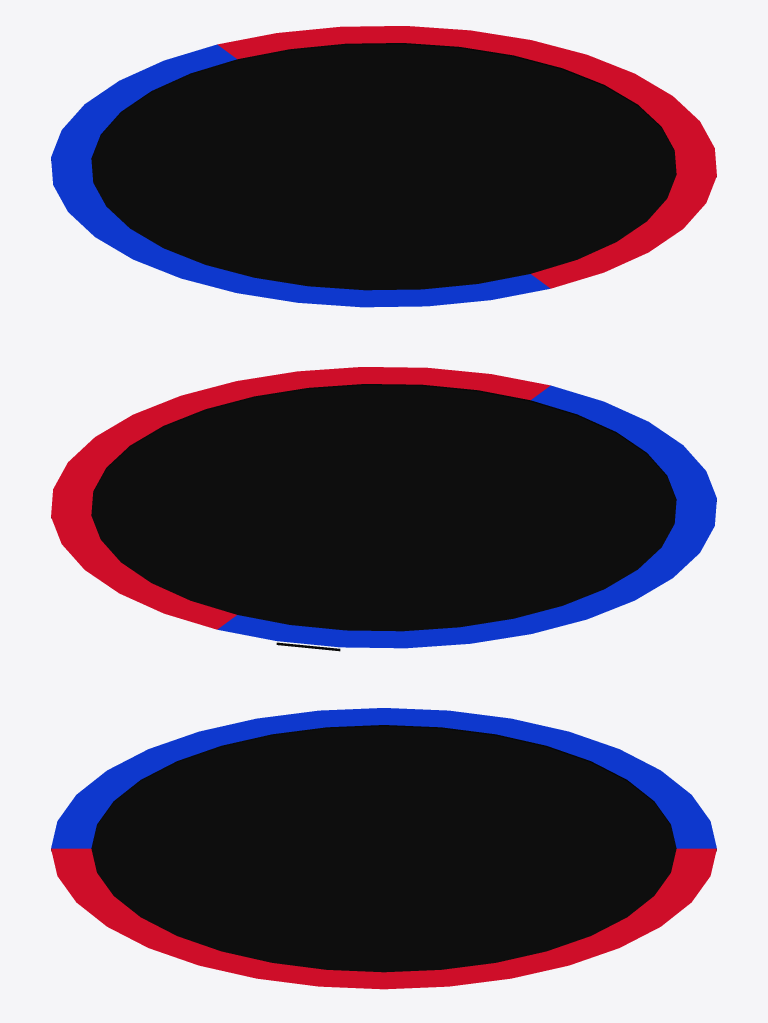
Rendered from Steer Release 2.fbx.
3 renders of one model, top to bottom at view 1: azimuth 30°, elevation 25°; view 2: azimuth 150°, elevation 25°; view 3: azimuth 270°, elevation 25°, orthographic.
Parts seen in each view (by area): view 1: Hold Beacon.001; view 2: Hold Beacon.001; view 3: Hold Beacon.001.
Part boxes in pixels (x1=…): Hold Beacon.001: x1=51, y1=26, x2=716, y2=307; Hold Beacon.001: x1=51, y1=367, x2=716, y2=651; Hold Beacon.001: x1=51, y1=708, x2=716, y2=989.
Bounding box in the file's own units: 200 × 1.16 × 200.
